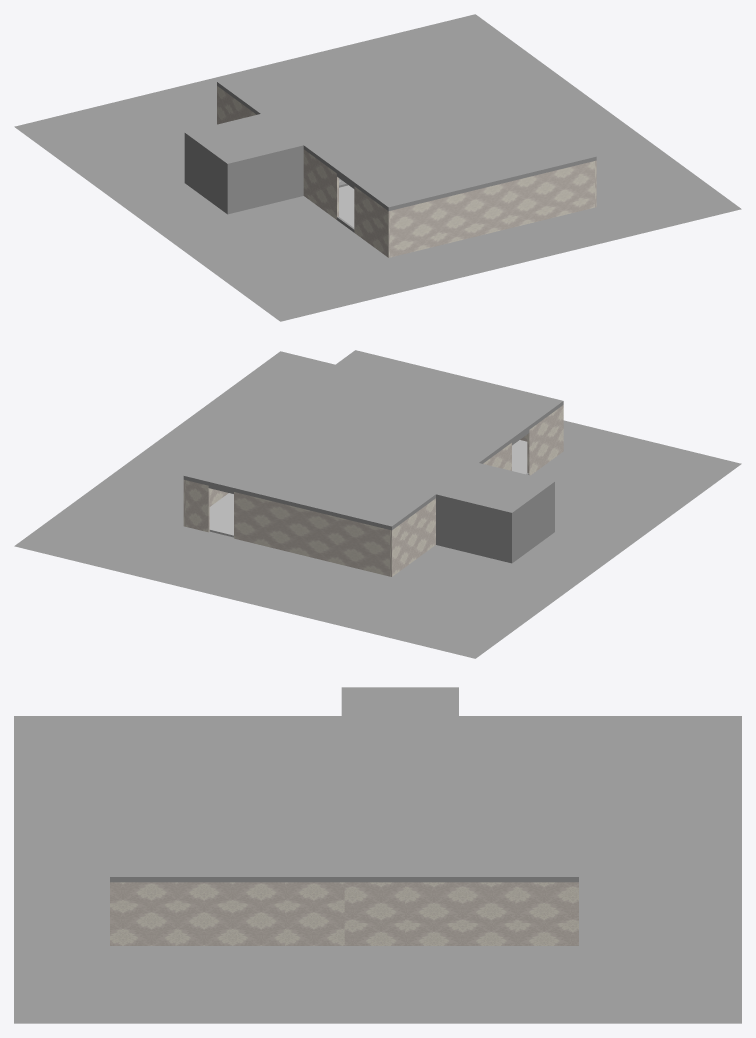
The model's file is fangjian2.fbx.
3 views of the same model, one above another, from view 1: azimuth 30°, elevation 25°; view 2: azimuth 150°, elevation 25°; view 3: azimuth 270°, elevation 25° (orthographic). The views are drawn at different scales.
Parts seen in each view (by area): view 1: pPlane1, pCube583, pCube536, pCube584, pCube12, pCube11, pCube2, pCube524, pCube10; view 2: pPlane1, pCube583, pCube9, pCube584, pCube13, pCube10, pCube11, pCube2, pCube7; view 3: pPlane1, pCube583, pCube6, pCube529, pCube584.
Boxes of the visible parts, x1,y1,x2,y2 form: pPlane1: [14, 14, 741, 321]; pCube583: [217, 31, 596, 211]; pCube536: [390, 161, 594, 257]; pCube584: [184, 114, 303, 167]; pCube12: [229, 149, 303, 213]; pCube11: [184, 137, 229, 214]; pCube2: [354, 186, 390, 257]; pCube524: [303, 149, 338, 219]; pCube10: [217, 86, 256, 124]; pPlane1: [14, 351, 741, 658]; pCube583: [183, 350, 563, 530]; pCube9: [234, 492, 389, 576]; pCube584: [436, 463, 554, 516]; pCube13: [436, 498, 510, 562]; pCube10: [390, 498, 435, 576]; pCube11: [510, 485, 554, 563]; pCube2: [527, 405, 563, 475]; pCube7: [185, 480, 209, 532]; pPlane1: [14, 716, 741, 1023]; pCube583: [110, 738, 578, 882]; pCube6: [344, 882, 578, 945]; pCube529: [110, 882, 344, 945]; pCube584: [341, 687, 458, 737].
Bounding box in the file's own units: 3104 × 345 × 3104.
